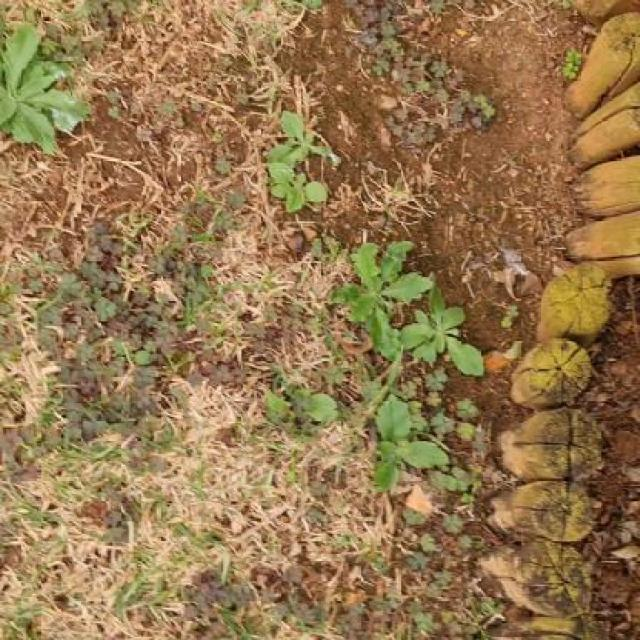weed: (337, 243, 482, 376), (0, 25, 74, 152), (268, 111, 338, 212), (377, 398, 449, 490), (266, 391, 338, 422)
